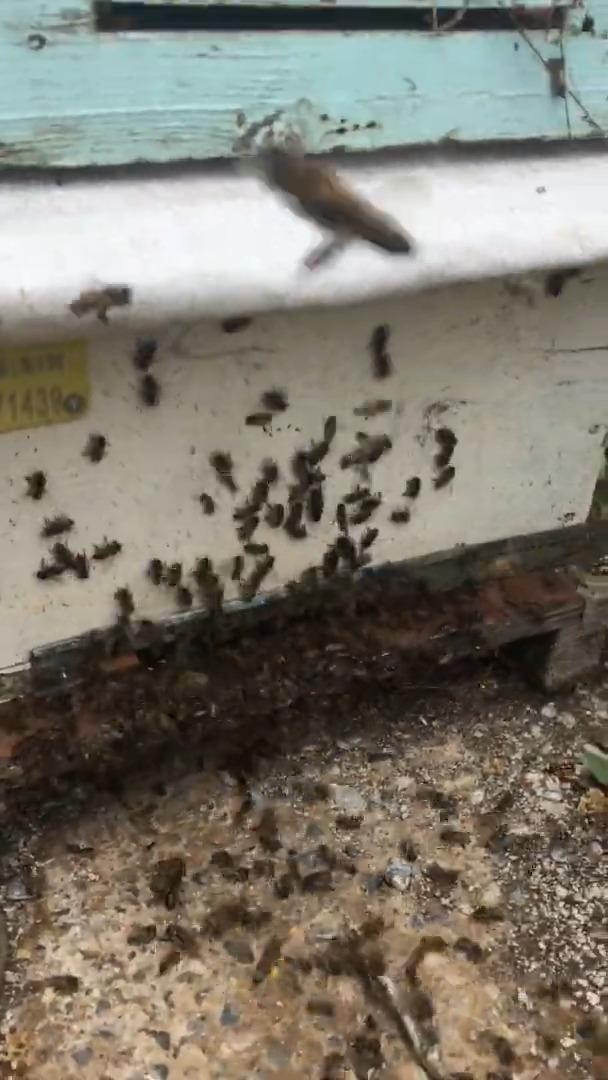worker-bee: (149, 854, 185, 909), (340, 434, 392, 468), (193, 557, 223, 615), (239, 553, 274, 600), (209, 451, 237, 493), (162, 924, 198, 954), (283, 500, 306, 539), (435, 427, 457, 467), (114, 587, 134, 628), (334, 535, 358, 569), (82, 432, 107, 463), (247, 478, 268, 513), (41, 515, 74, 537), (139, 372, 159, 406), (92, 539, 121, 560), (307, 484, 323, 522), (193, 557, 211, 588), (26, 470, 45, 499), (36, 560, 63, 580), (433, 465, 455, 489), (72, 552, 88, 579), (265, 504, 283, 527), (199, 492, 216, 516), (245, 411, 272, 426), (147, 558, 162, 584), (176, 585, 192, 609), (165, 563, 181, 586), (336, 502, 347, 533), (231, 554, 243, 581), (244, 543, 268, 555)
